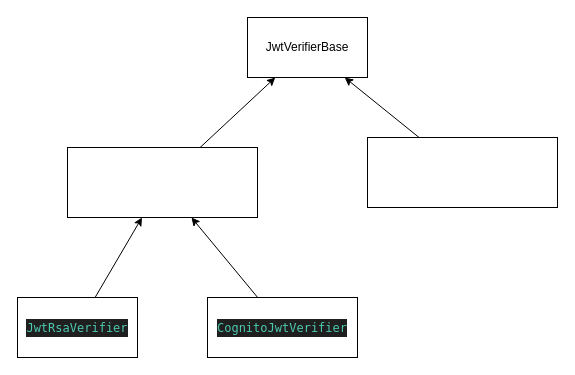
Some shapes in this 575 by 375 pixel diagram are drawn without their labels. The centre of each missing label's shape, as x and y in pixels:
JwtEsVerifierBase: pixel 462 172
JwtRsaVerifierBase: pixel 162 182
